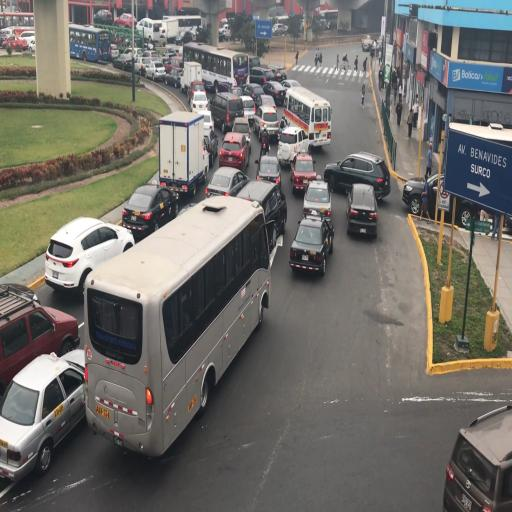auto: (0, 348, 88, 486), (1, 284, 81, 402), (43, 214, 133, 295), (443, 402, 510, 510), (406, 171, 508, 233), (234, 178, 285, 246), (121, 180, 179, 238), (326, 150, 387, 202), (289, 216, 333, 276), (346, 182, 378, 237), (210, 91, 245, 134), (206, 164, 249, 198), (302, 176, 331, 222), (218, 131, 250, 171), (290, 152, 318, 195), (277, 125, 306, 165), (230, 115, 254, 152), (256, 152, 281, 187), (256, 106, 280, 142), (262, 79, 288, 106), (115, 47, 141, 70), (164, 56, 184, 84), (2, 34, 28, 52), (198, 110, 214, 137), (256, 93, 276, 114), (140, 52, 157, 76), (264, 64, 286, 82), (278, 79, 301, 95), (114, 12, 136, 28), (93, 9, 113, 26), (272, 22, 287, 36), (362, 38, 372, 52), (224, 26, 232, 39), (218, 25, 224, 36)
bus: (84, 197, 268, 448), (183, 42, 245, 93), (282, 85, 330, 150), (68, 23, 110, 63), (163, 14, 202, 43), (139, 17, 163, 44)
camion: (158, 110, 209, 201), (180, 60, 202, 96)
